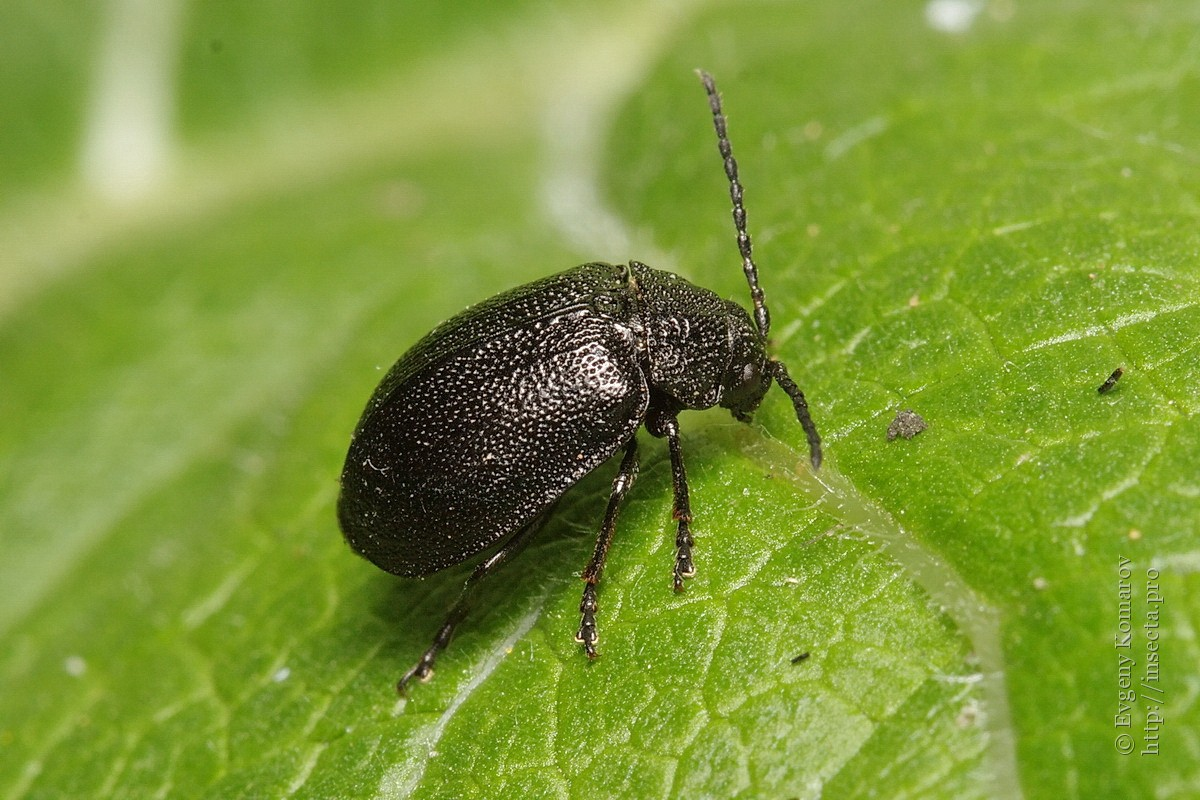Galeruca_tanaceti: (315, 62, 831, 695)
